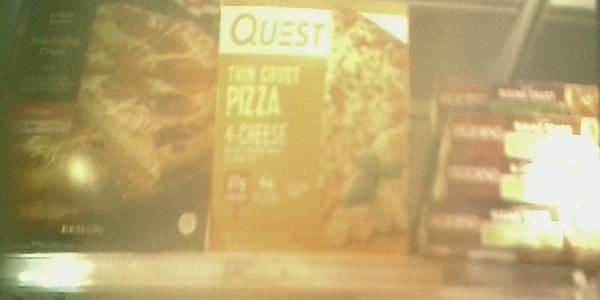pizza1: (1, 1, 214, 257), (218, 1, 413, 255)
pizza2: (426, 203, 599, 243), (448, 112, 600, 155), (438, 78, 600, 113), (444, 160, 600, 194)
